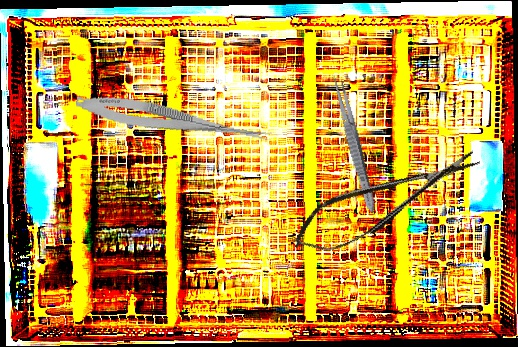Dressing Forceps: (328, 72, 380, 215)
Micro Scissor: (283, 139, 490, 264), (74, 89, 274, 148)
